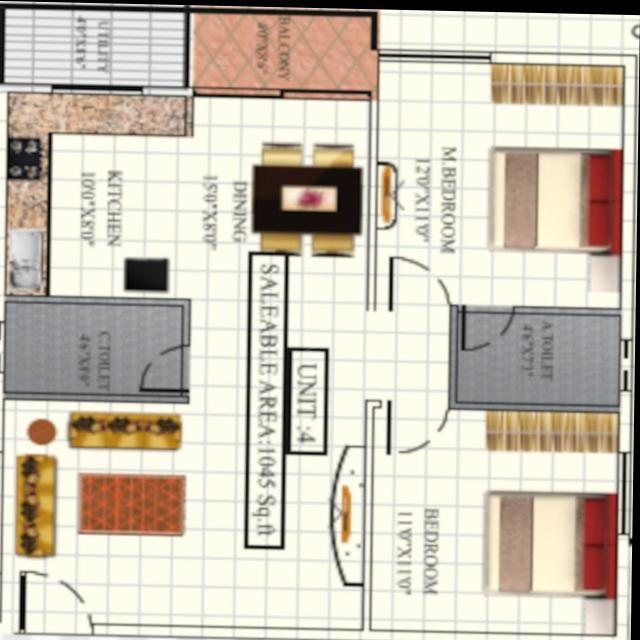Balcony-Sitout: (184, 4, 379, 98)
Bedroom: (368, 400, 632, 640)
Bedroom with Toilet: (372, 52, 631, 404)
Dining: (248, 137, 367, 254)
Kitchen: (0, 91, 192, 302)
Living: (0, 398, 190, 626)
Toilet: (1, 291, 192, 402), (452, 298, 632, 411)
Utility: (0, 2, 192, 96)
